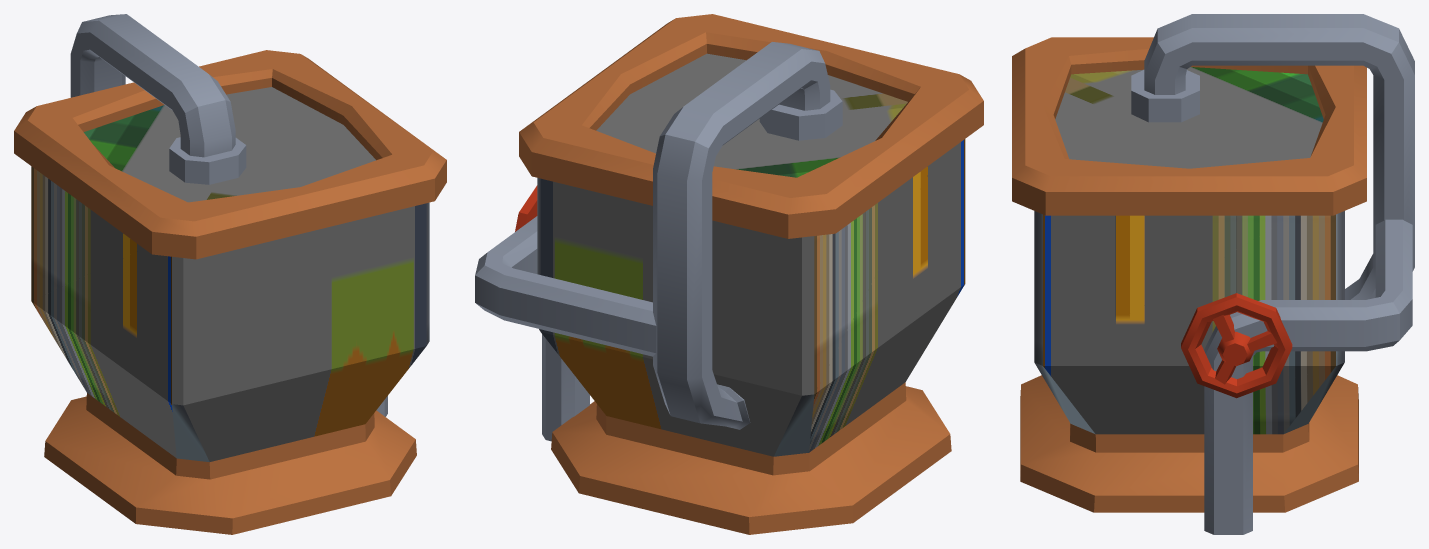
File: buil_pool03.FBX
The picture shows the model from 3 angles, left to right: view 1: azimuth 30°, elevation 25°; view 2: azimuth 150°, elevation 25°; view 3: azimuth 270°, elevation 25°; orthographic projection. The views are drawn at different scales.
Visible parts, largest first — view 1: buil_pool03_glass01, buil_pool03; view 2: buil_pool03, buil_pool03_glass01; view 3: buil_pool03, buil_pool03_glass01.
Part boxes in pixels (x1=…): buil_pool03_glass01: x1=31, y1=87, x2=429, y2=462; buil_pool03: x1=14, y1=14, x2=446, y2=534; buil_pool03: x1=475, y1=14, x2=983, y2=534; buil_pool03_glass01: x1=537, y1=53, x2=965, y2=456; buil_pool03: x1=1012, y1=14, x2=1414, y2=534; buil_pool03_glass01: x1=1034, y1=67, x2=1344, y2=434.
Size of the model in its own units: 221 by 253 by 225.
1 material, 1 textured.
